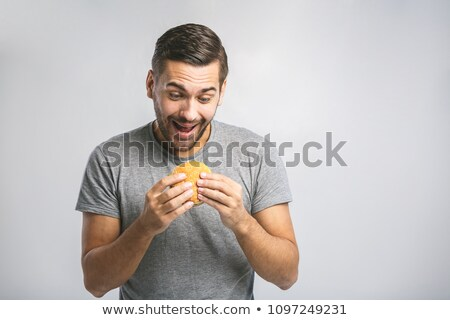eating: (85, 26, 289, 238)
